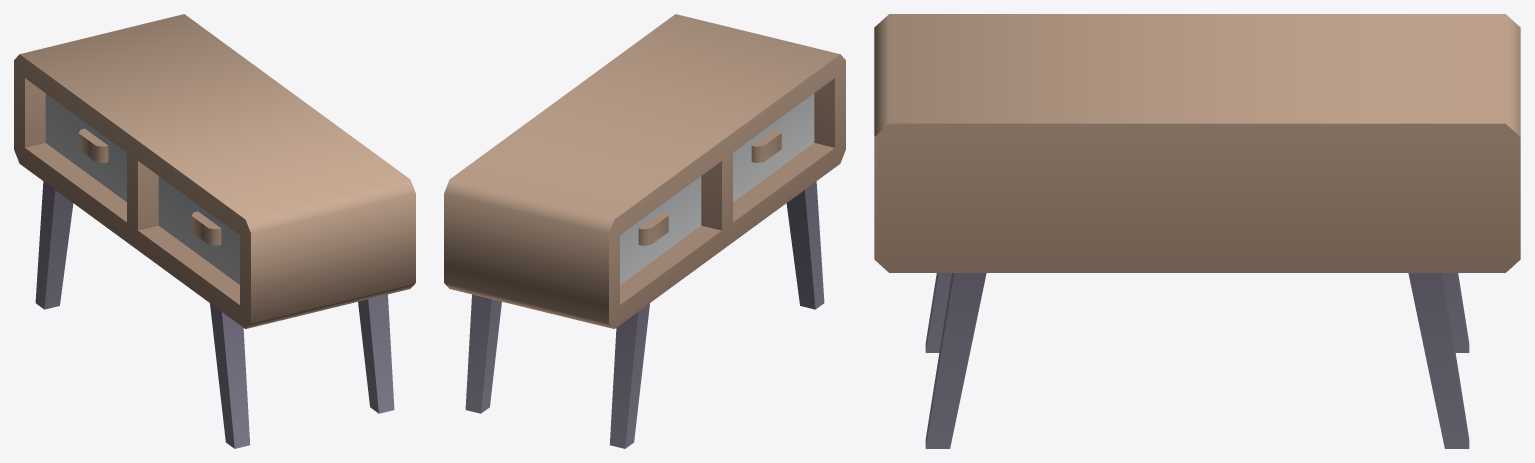
The model's file is sidetable-drawers.glb.
The picture shows the model from 3 angles, left to right: view 1: azimuth 30°, elevation 25°; view 2: azimuth 150°, elevation 25°; view 3: azimuth 270°, elevation 25°; orthographic projection. The views are drawn at different scales.
Parts seen in each view (by area): view 1: sidetable-drawers; view 2: sidetable-drawers; view 3: sidetable-drawers.
Boxes of the visible parts, x1,y1,x2,y2 form: sidetable-drawers: [14, 14, 415, 448]; sidetable-drawers: [444, 14, 845, 448]; sidetable-drawers: [874, 14, 1520, 448].
Size of the model in its own units: 0.4 by 0.556 by 0.996.
